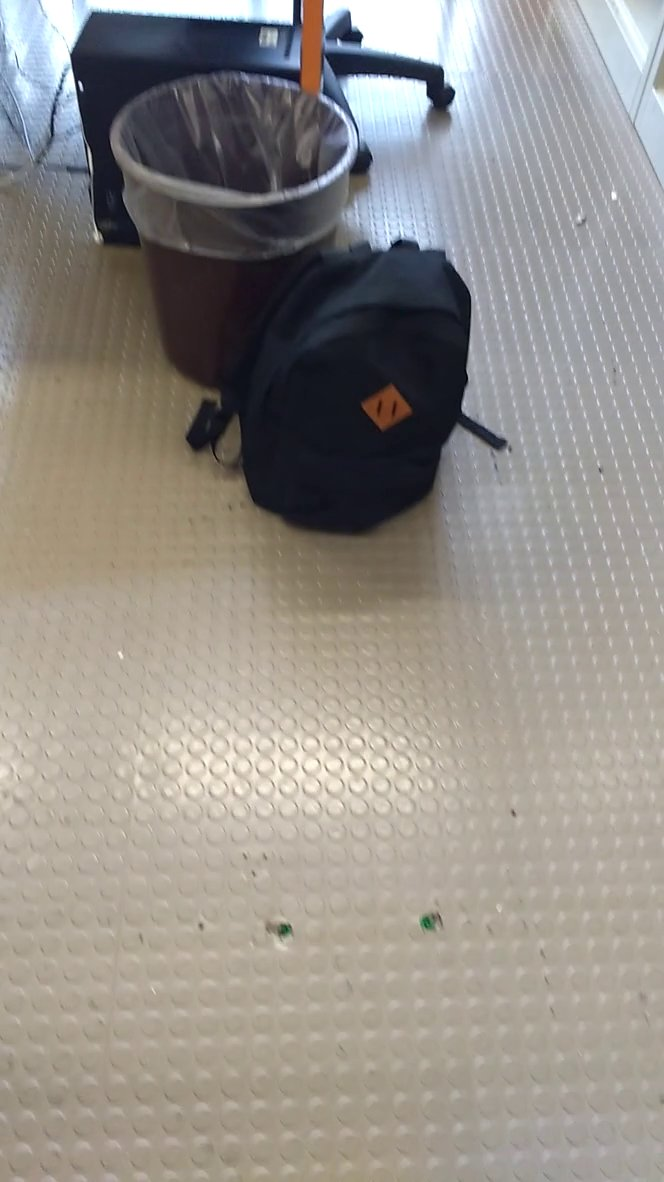bag: (184, 231, 507, 545)
bin: (108, 63, 362, 322)
